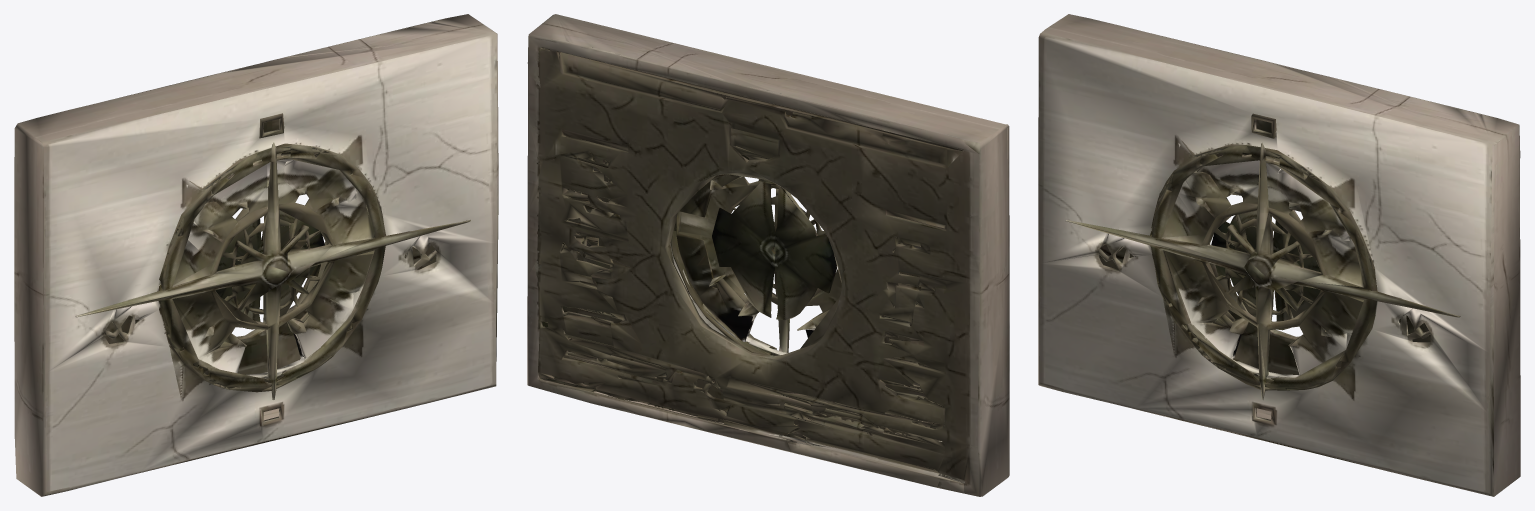
The model's file is model-1790546000228-panel.glb.
3 views of the same model, side by side, from view 1: azimuth 30°, elevation 25°; view 2: azimuth 150°, elevation 25°; view 3: azimuth 330°, elevation 25° (orthographic).
Visible parts, largest first — view 1: world; view 2: world; view 3: world.
Boxes of the visible parts, x1,y1,x2,y2 form: world: (14,14,498,496); world: (527,14,1009,496); world: (1038,14,1520,496).
Size of the model in its own units: 0.9988 by 0.7413 by 0.1438.
Materials: 1 (1 with a texture image).
